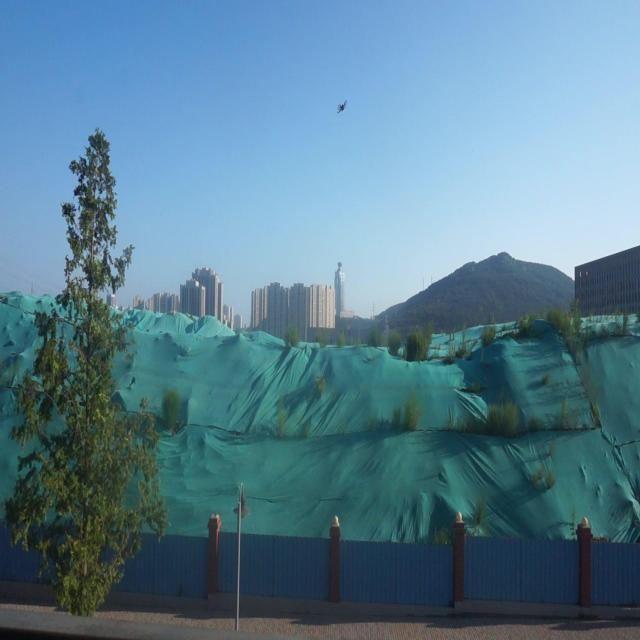UAV: (337, 100, 348, 114)
